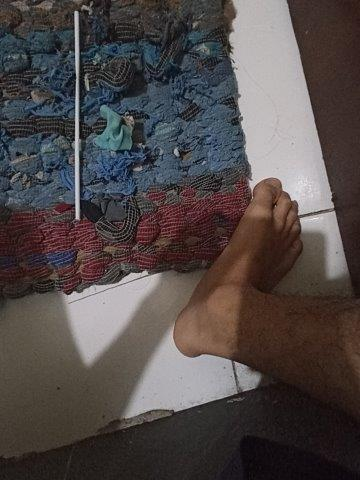sedotan: (74, 11, 80, 219)
